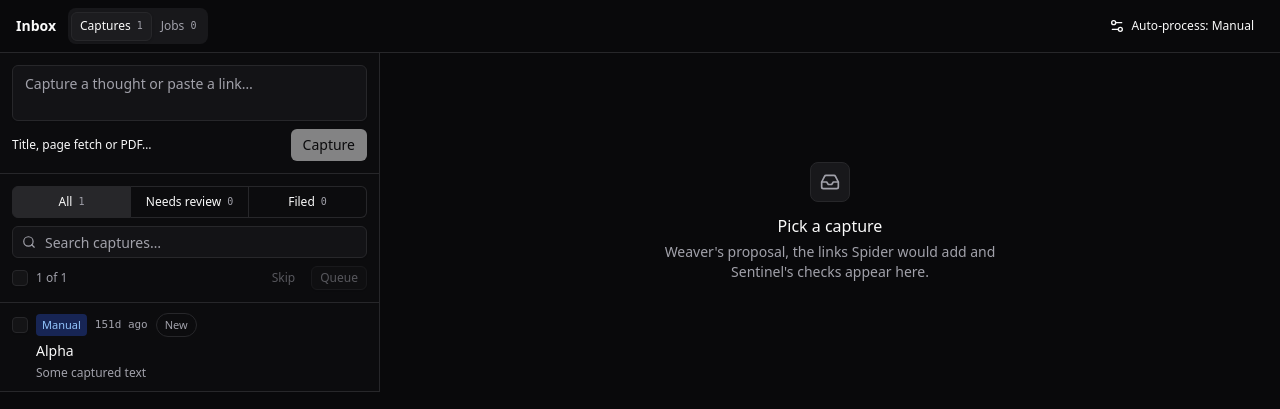
Test: InboxView — listing & filtering › shows a no-match message when the filter excludes everything
Type "zzz" into the search field labelled "Search captures". click: (190, 242)
box: [12,226,367,258]
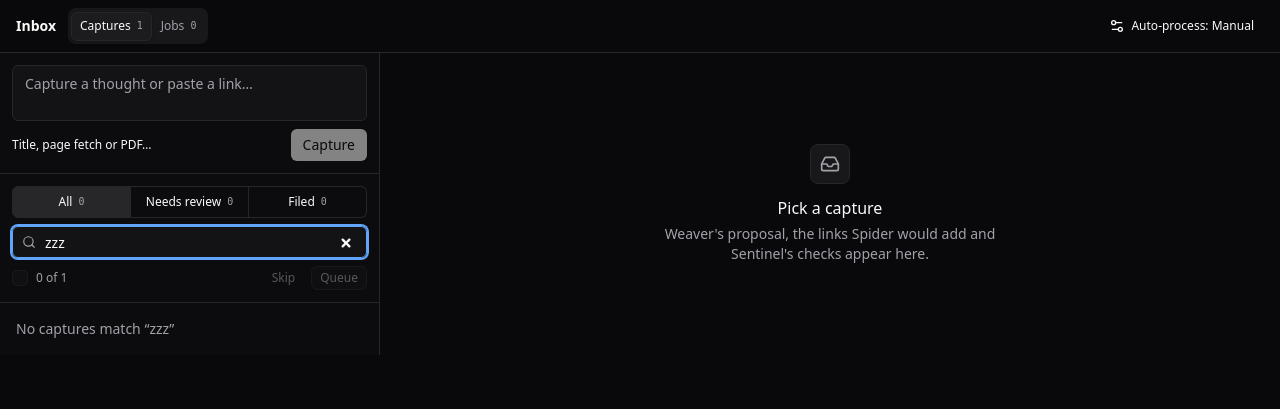
Result: the text "No captures match “zzz”" is shown at [16,319,174,338]
